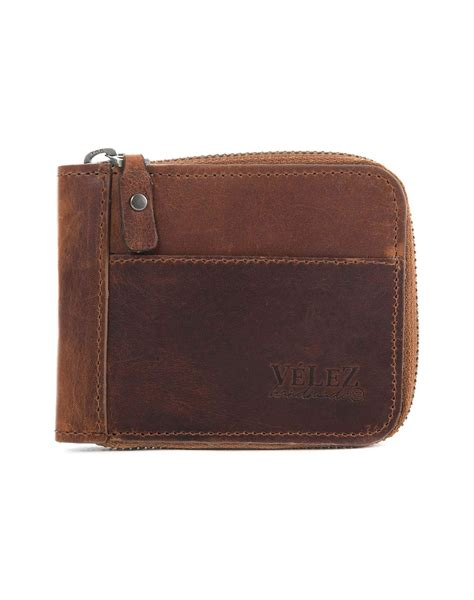cuero: (49, 150, 416, 453)
